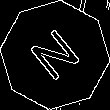N_SE: (24, 23, 86, 87)
